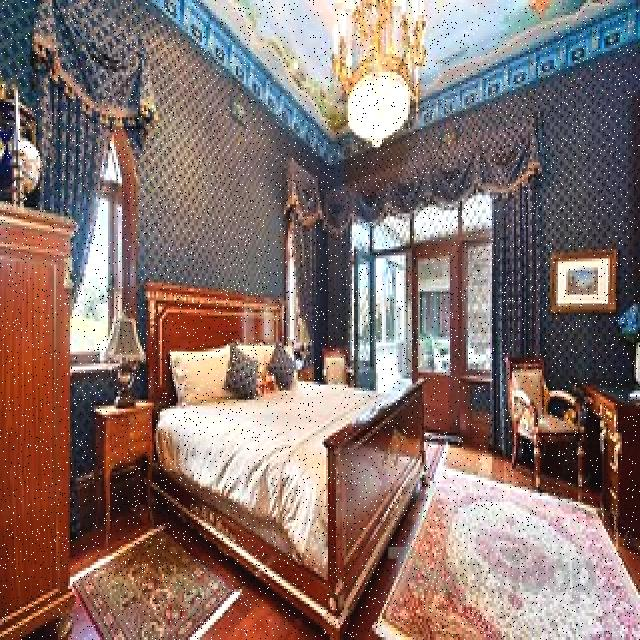bed: (143, 284, 437, 606)
